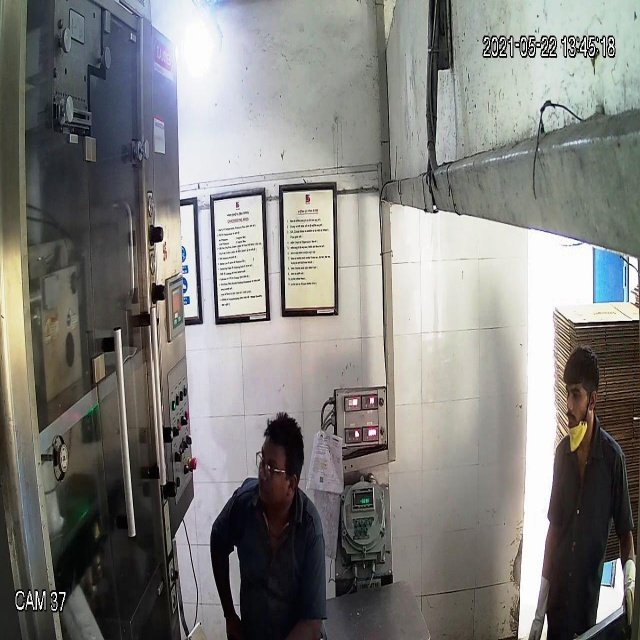Gafas: (253, 448, 297, 482)
Sin_gafas: (562, 381, 592, 404)
